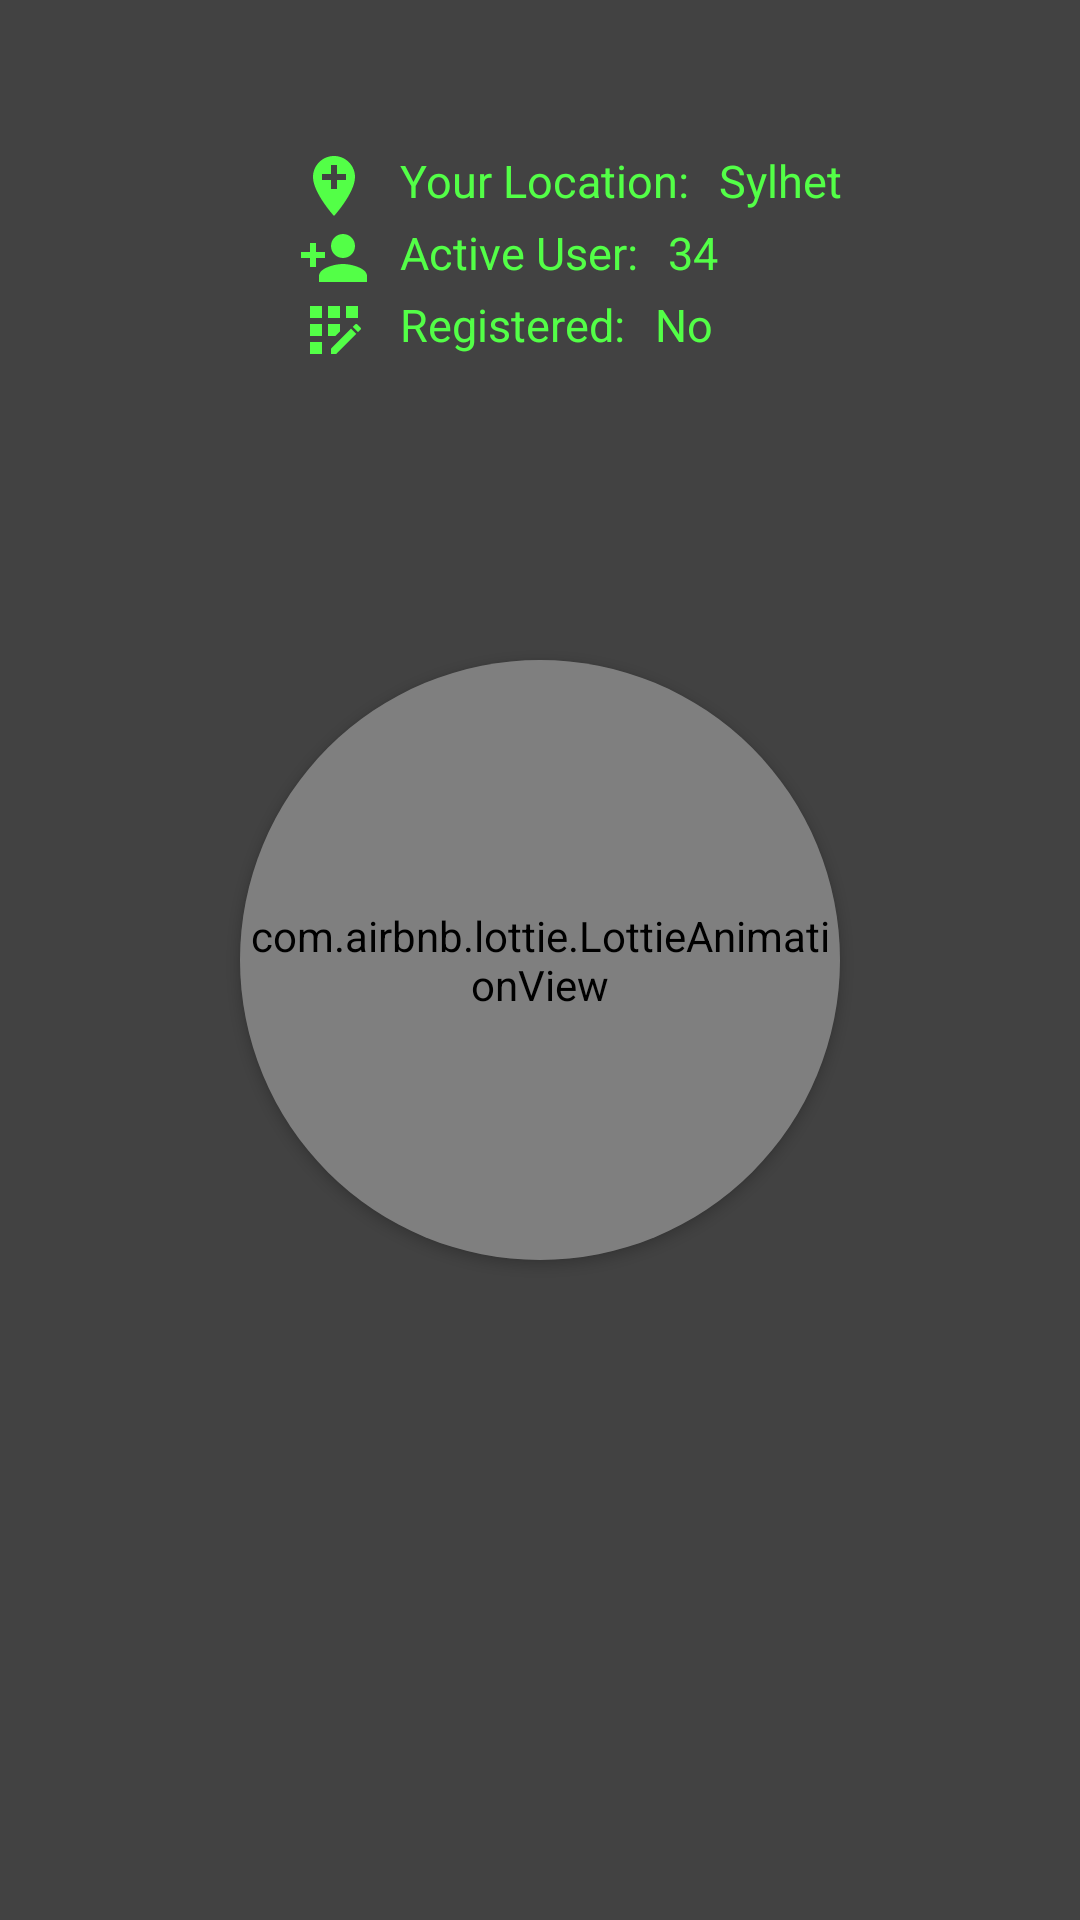

Where icons sit on this 1080×1920 app screen, as (x1,y1,x2,y2):
add location: (313,156,355,216)
person add: (301,234,367,282)
registration: (310,306,361,354)
